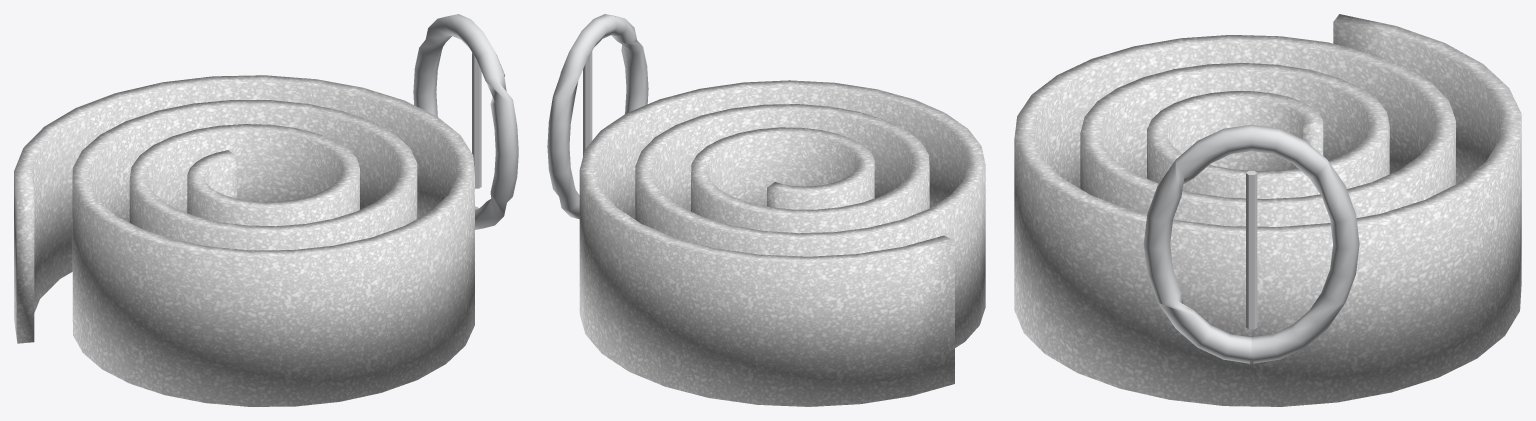
Rendered from belt.glb.
3 renders of one model, left to right at view 1: azimuth 30°, elevation 25°; view 2: azimuth 150°, elevation 25°; view 3: azimuth 270°, elevation 25°, orthographic. The views are drawn at different scales.
Visible parts, largest first — view 1: belt_coil, belt_buckle, belt_prong; view 2: belt_coil, belt_buckle, belt_prong; view 3: belt_coil, belt_buckle, belt_prong.
Part boxes in pixels (<box>): belt_coil: <box>14,75,474,406</box>; belt_buckle: <box>413,14,518,229</box>; belt_prong: <box>472,52,481,188</box>; belt_coil: <box>579,80,985,406</box>; belt_buckle: <box>547,14,648,219</box>; belt_prong: <box>583,51,592,156</box>; belt_coil: <box>1014,14,1521,406</box>; belt_buckle: <box>1143,124,1359,363</box>; belt_prong: <box>1246,171,1257,329</box>.
Size of the model in its own units: 11.91 by 6.72 by 10.71.
Materials: 2 (1 with a texture image).
